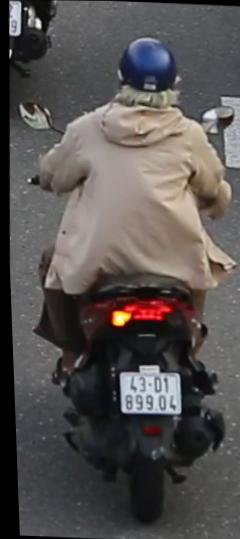LP: (110, 363, 183, 423)
helmet: (102, 30, 191, 125)
